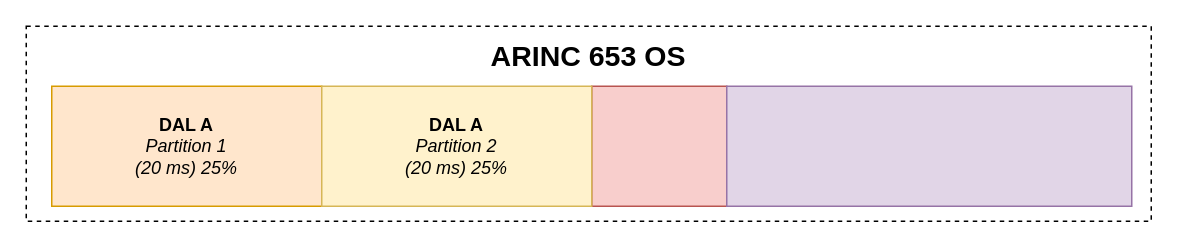
The diagram is 1178 pixels wide and 248 high, and some of its shapes have lost their labels. The shapes that lost their labels are listed below. From the top down, each one's box as (x1, y1, x2, y2) in pixels, then its label:
(590, 85, 727, 206): Comparator Partition 3 (10 ms) 12.5%
(725, 85, 1132, 206): DAL C / D / E Partition 4 (30 ms) 37.5%
